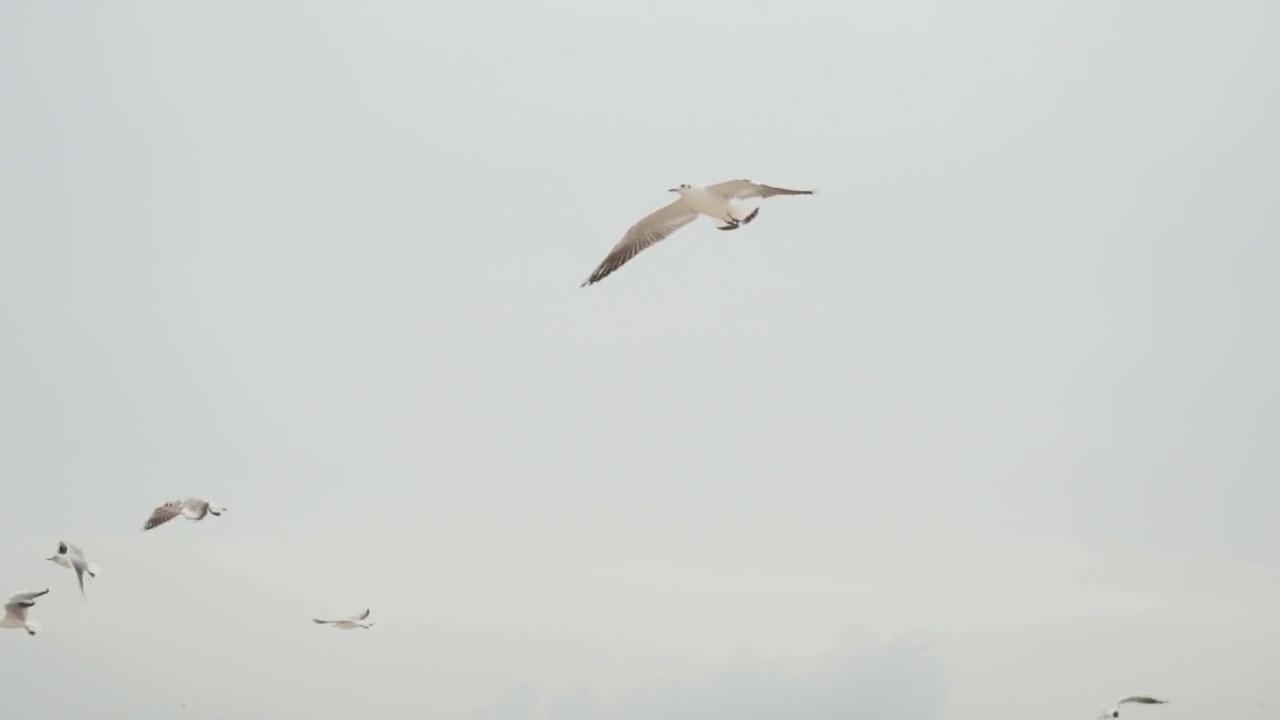bird: (580, 178, 816, 287), (144, 496, 225, 531), (1, 584, 50, 639), (47, 542, 96, 591), (1098, 695, 1166, 720), (313, 608, 373, 631)
